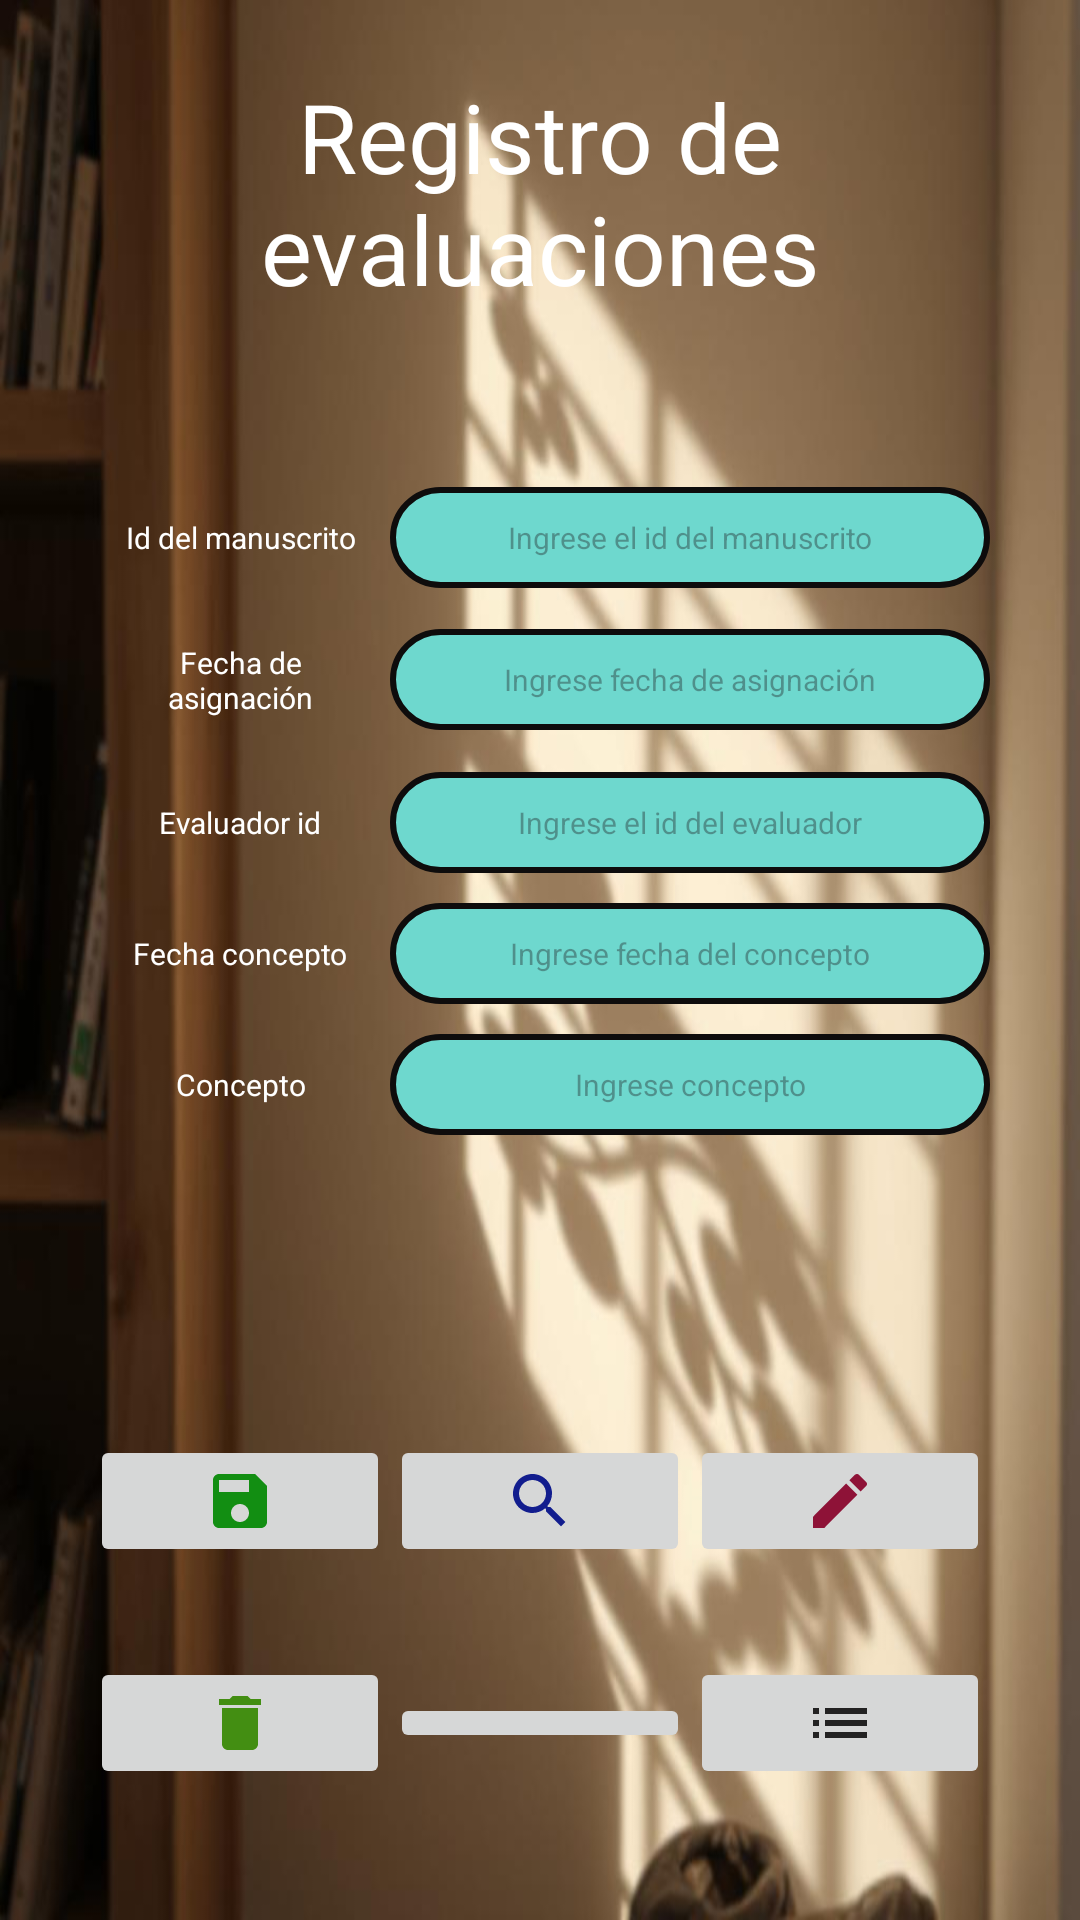

Point at icon controls on the screen. Image size 1080×1920, points as (x,y).
delete: (240,1723)
edit: (840,1501)
list: (840,1723)
save: (234,1501)
search: (540,1501)
